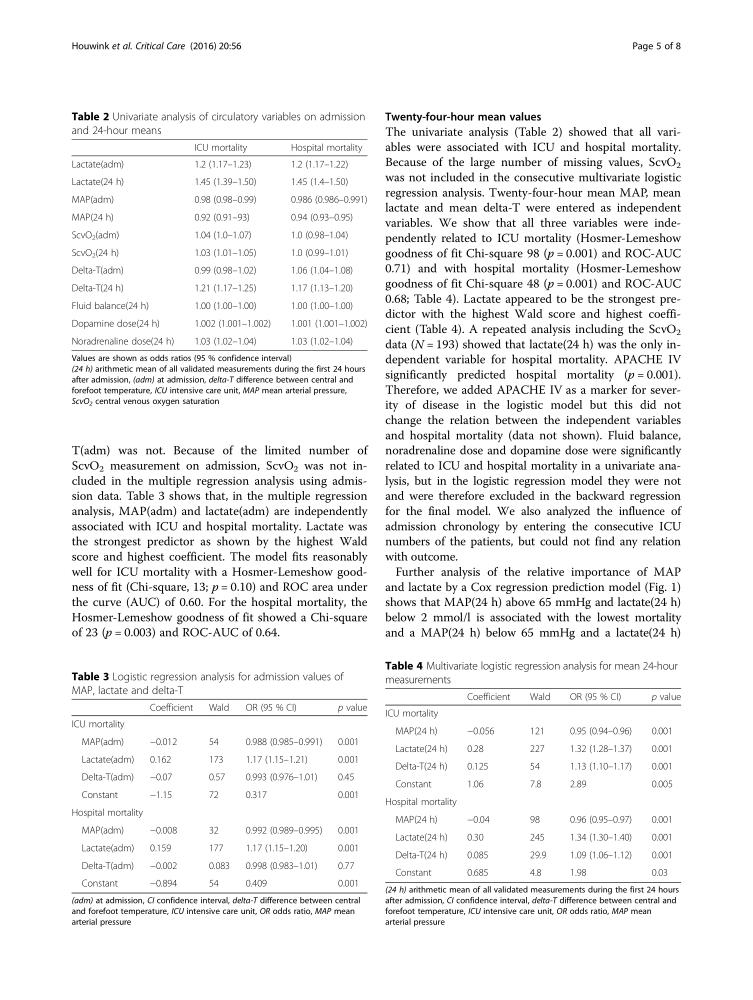table: (71, 142, 367, 346), (71, 701, 367, 889), (384, 691, 680, 878)
